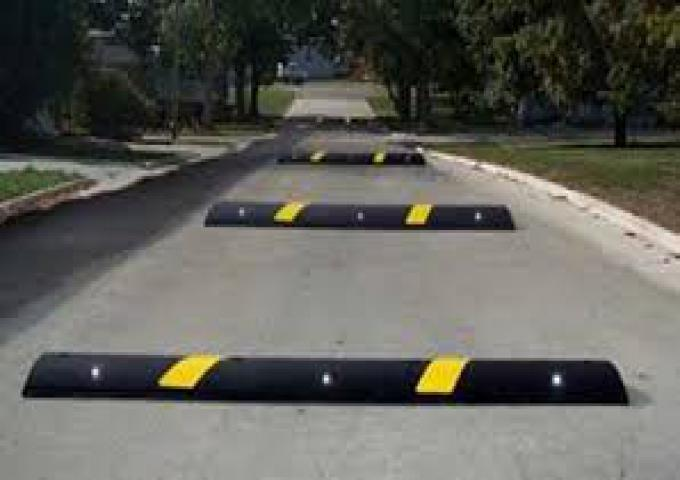speedbreaker: (3, 344, 674, 414), (190, 184, 523, 242), (272, 140, 429, 176)
